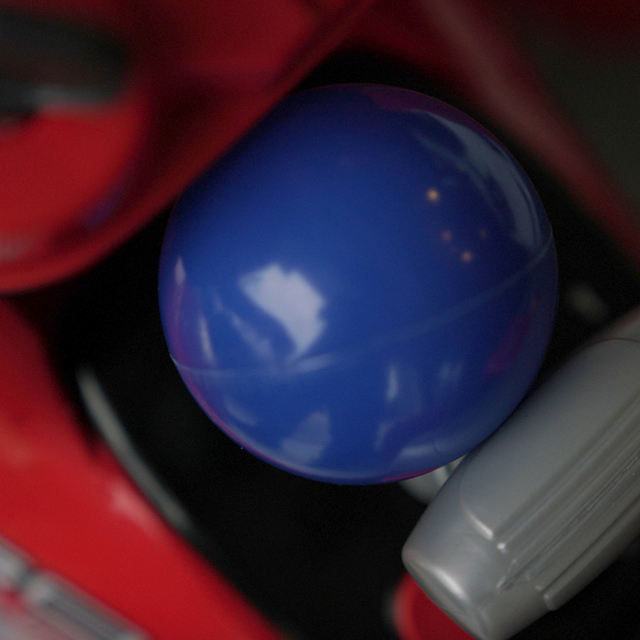Ball: (161, 85, 563, 476)
